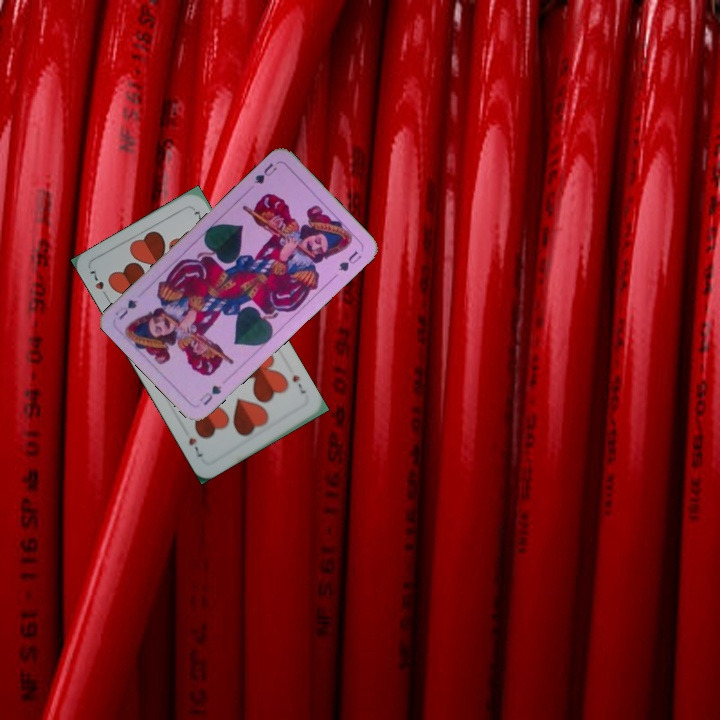GU: (250, 159, 279, 187), (195, 381, 225, 408)
H7: (86, 266, 111, 302), (288, 371, 308, 396)
